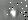person: (11, 8, 17, 19), (21, 6, 25, 17)
